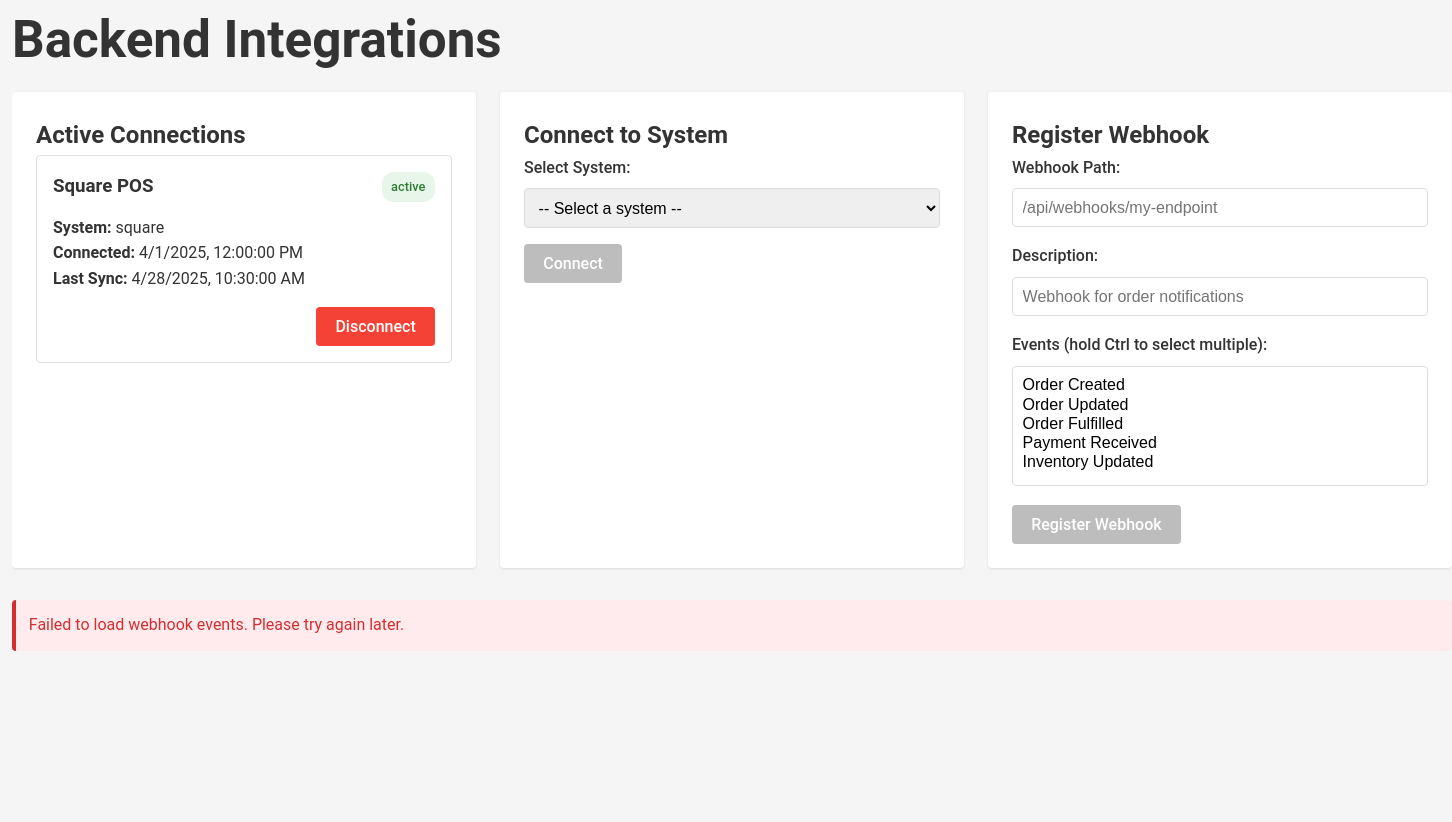
Test: IntegrationsPage › should handle errors when registering a webhook
Fill in webhook form
Type "invalid-path" into the field labelled "Webhook Path:" at coordinates (1220, 208), box [1012, 188, 1428, 228]
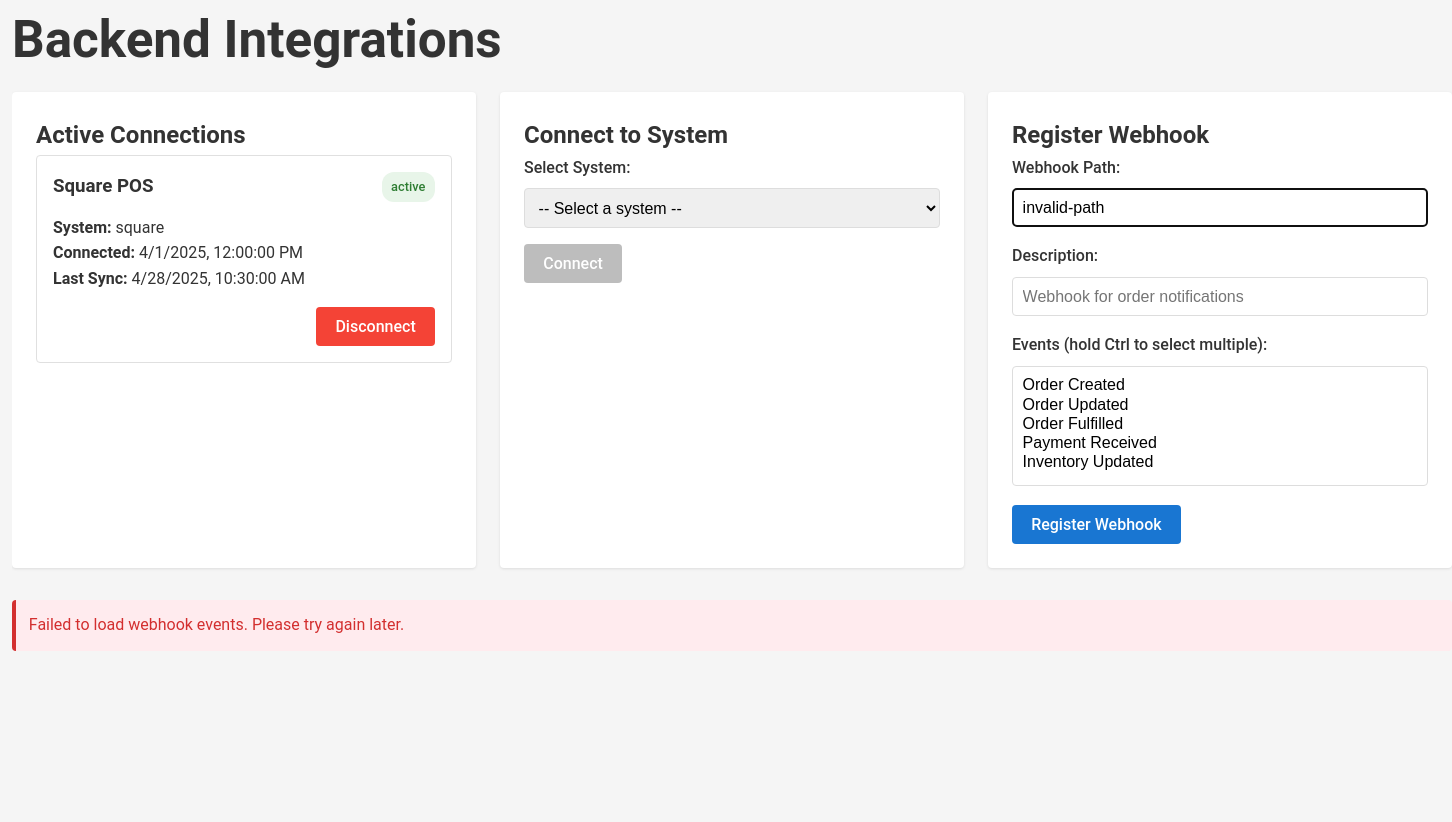
Submit the form
Click the button "Register Webhook" at coordinates (1096, 525), box [1012, 506, 1181, 544]
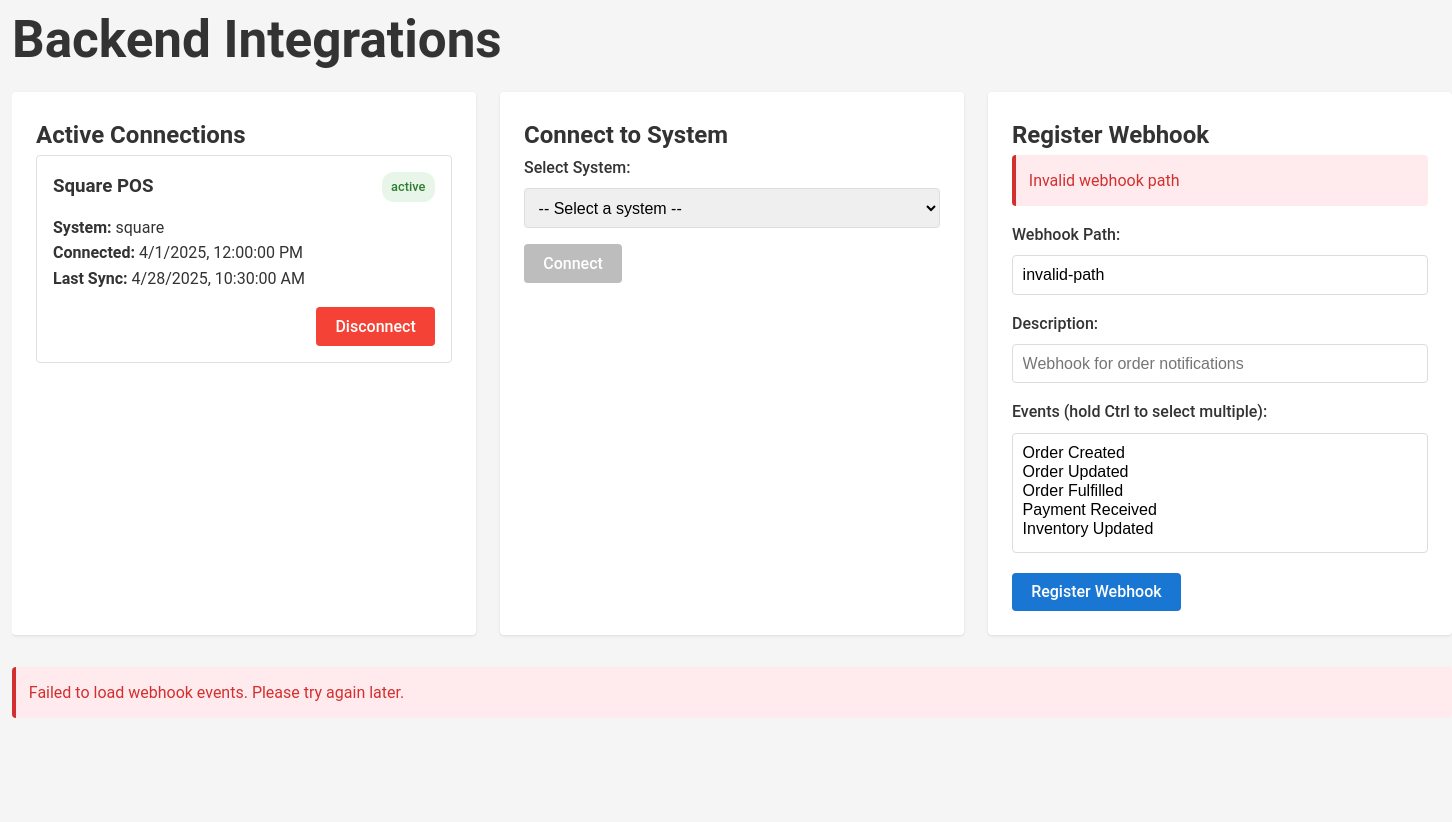
Result: the text "Invalid webhook path" is shown at [1012, 155, 1428, 206]
